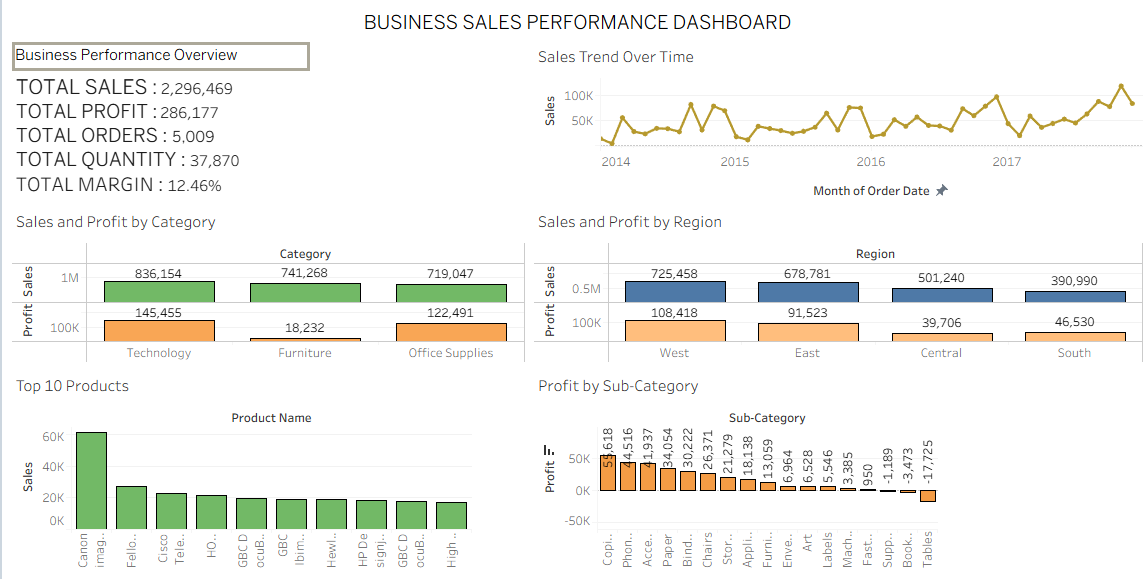

The page's visual inventory and layout, read from the dashboard file:
{"tool":"tableau","page":{"name":"Business Sales Performance Dashboard","canvas":[1155,584],"ordinal":0},"visuals":[{"type":"title","box":[8,8,1139,32]},{"type":"worksheet","title":"Business Performance Overview","mark":"Automatic","box":[8,40,522,165]},{"type":"worksheet","title":"Sales Trend Over Time","mark":"Automatic","rows":["Sales"],"cols":["Order Date"],"box":[530,40,617,165]},{"type":"worksheet","title":"Sales and Profit by Category","mark":"Bar","rows":["Sales","Profit"],"cols":["Category"],"box":[8,205,522,164]},{"type":"worksheet","title":"Sales and Profit by Region","mark":"Automatic","rows":["Sales","Profit"],"cols":["Region"],"box":[530,205,617,164]},{"type":"worksheet","title":"Top 10 Products","mark":"Automatic","rows":["Sales"],"cols":["Product Name"],"box":[8,369,522,207]},{"type":"worksheet","title":"Profit by Sub-Category","mark":"Automatic","rows":["Profit"],"cols":["Sub-Category"],"box":[530,369,617,207]}]}

Visuals, with their boxes in screenshot pixels (x1, y1, x2, y2), scaled from the page's 1155x584 canvas onto the 1143x579 screenshot:
title: locate(8, 8, 1135, 40)
"Business Performance Overview" worksheet: locate(8, 40, 524, 203)
"Sales Trend Over Time" worksheet: locate(524, 40, 1135, 203)
"Sales and Profit by Category" worksheet (Bar marks): locate(8, 203, 524, 366)
"Sales and Profit by Region" worksheet: locate(524, 203, 1135, 366)
"Top 10 Products" worksheet: locate(8, 366, 524, 571)
"Profit by Sub-Category" worksheet: locate(524, 366, 1135, 571)
